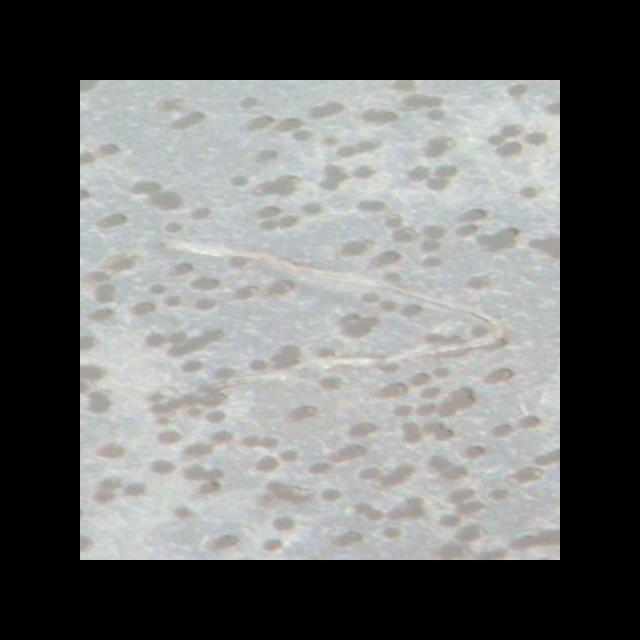Fibre: (140, 233, 508, 394)
